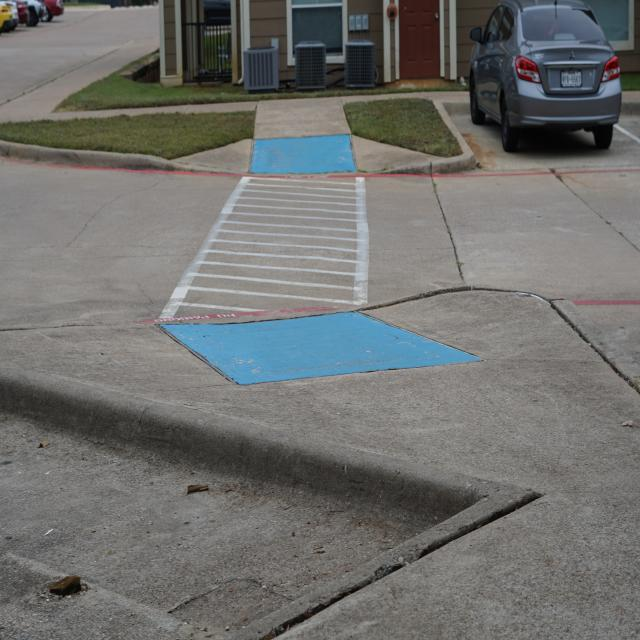Automobile: (467, 1, 623, 143)
Obstacle: (0, 374, 468, 627), (243, 46, 279, 92), (295, 42, 326, 90), (345, 40, 376, 88)
Road: (0, 111, 640, 368), (0, 5, 158, 104)
Sidewalk: (0, 285, 640, 640), (2, 47, 445, 178)
